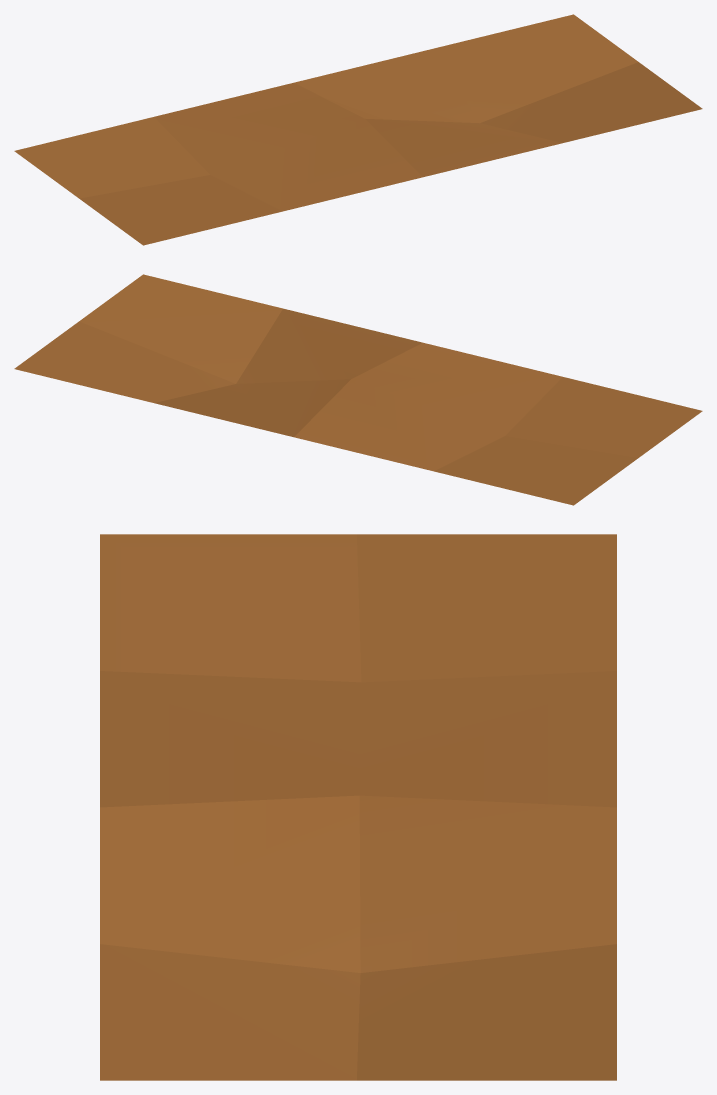
The model's file is cGround_C_Under_3__.glb.
3 views of the same model, one above another, from view 1: azimuth 30°, elevation 25°; view 2: azimuth 150°, elevation 25°; view 3: azimuth 270°, elevation 25° (orthographic). The views are drawn at different scales.
Parts seen in each view (by area): view 1: cGround_C_Under_3; view 2: cGround_C_Under_3; view 3: cGround_C_Under_3.
Boxes of the visible parts, x1,y1,x2,y2 form: cGround_C_Under_3: (14, 14, 702, 245); cGround_C_Under_3: (14, 274, 702, 505); cGround_C_Under_3: (100, 534, 616, 1080).
Size of the model in its own units: 10 by 0.5571 by 4.
1 material, 1 textured.
